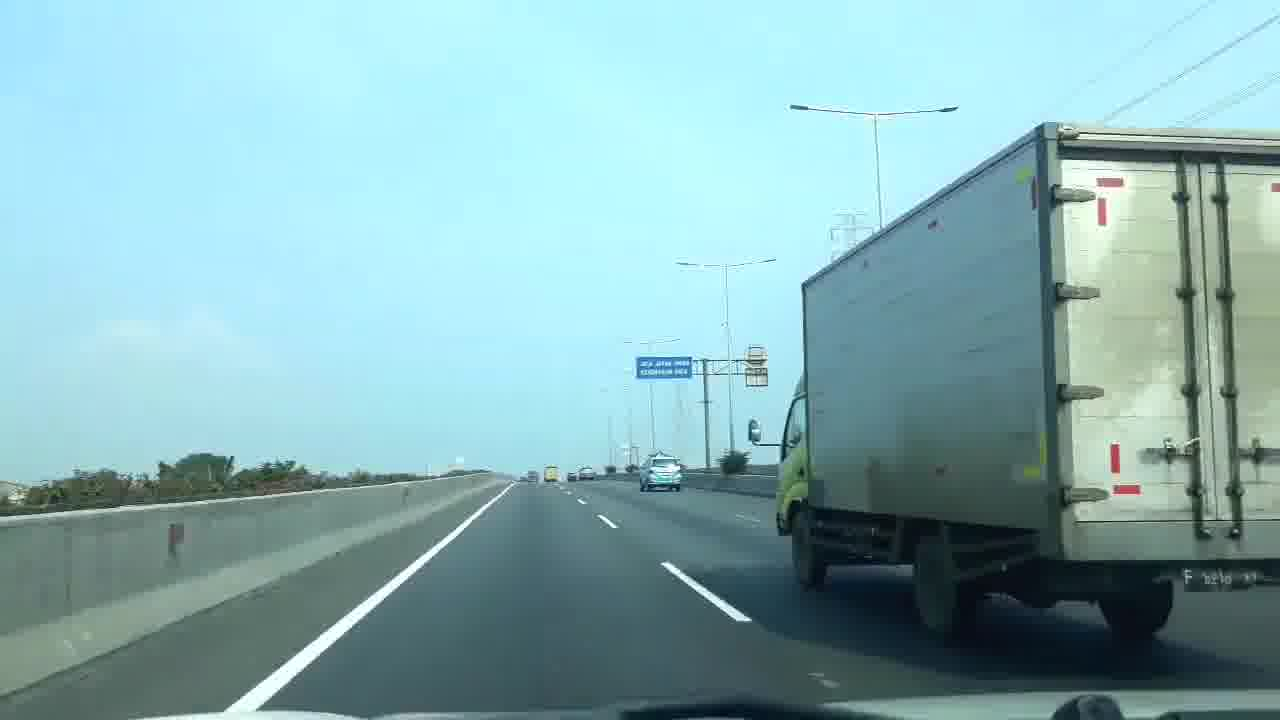plate_positive: (1183, 568, 1263, 591)
